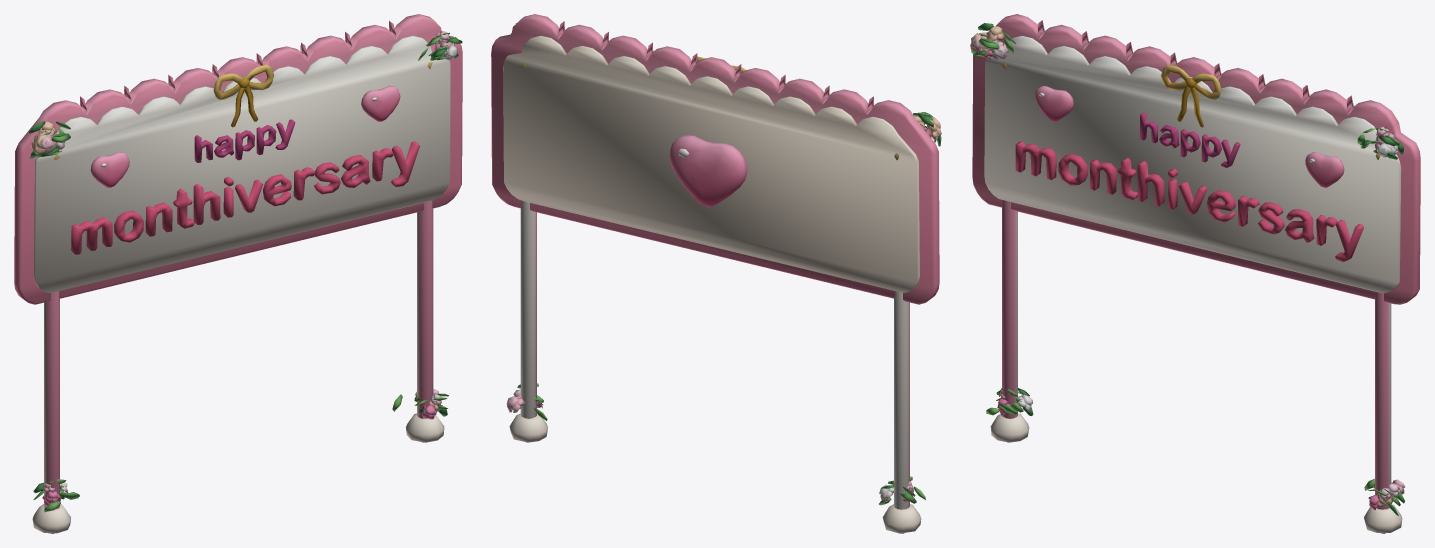
Rendered from prp_anniv_sign_month.glb.
3 renders of one model, left to right at view 1: azimuth 30°, elevation 25°; view 2: azimuth 150°, elevation 25°; view 3: azimuth 330°, elevation 25°, orthographic.
Parts seen in each view (by area): view 1: INST_prp_anniv_sign_month_sign_month; view 2: INST_prp_anniv_sign_month_sign_month; view 3: INST_prp_anniv_sign_month_sign_month.
Part boxes in pixels (box(x1,y1,x2,y2)): INST_prp_anniv_sign_month_sign_month: box(14, 14, 462, 533); INST_prp_anniv_sign_month_sign_month: box(491, 14, 941, 533); INST_prp_anniv_sign_month_sign_month: box(970, 14, 1420, 533).
Bounding box in the file's own units: 4.77 × 4.38 × 0.62.
